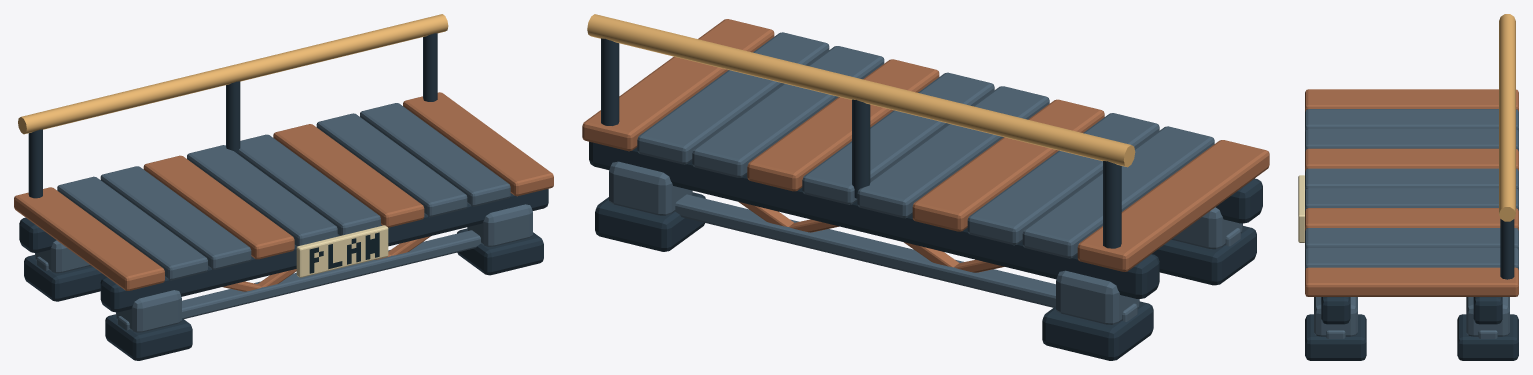
3 renders of one model, left to right at view 1: azimuth 30°, elevation 25°; view 2: azimuth 150°, elevation 25°; view 3: azimuth 270°, elevation 25°, orthographic. The views are drawn at different scales.
Parts seen in each view (by area): view 1: PR103 enamel and hardware; view 2: PR103 enamel and hardware; view 3: PR103 enamel and hardware.
Part boxes in pixels (<box>): PR103 enamel and hardware: <box>14,14,553,360</box>; PR103 enamel and hardware: <box>582,14,1269,360</box>; PR103 enamel and hardware: <box>1298,14,1518,360</box>.
Size of the model in its own units: 1.5 by 0.5548 by 0.7.
